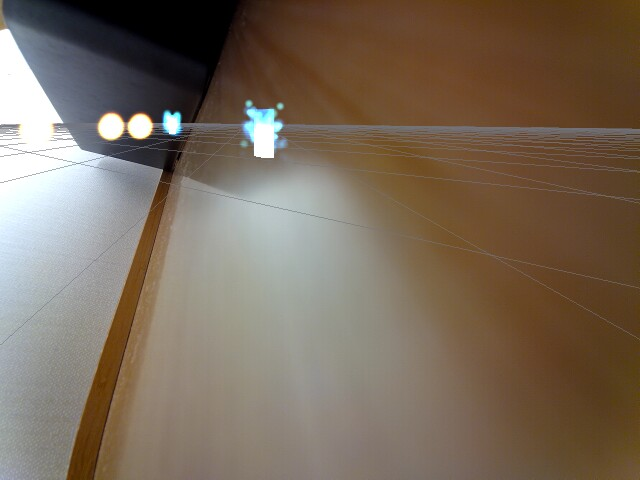firebig: (13, 98, 56, 159)
